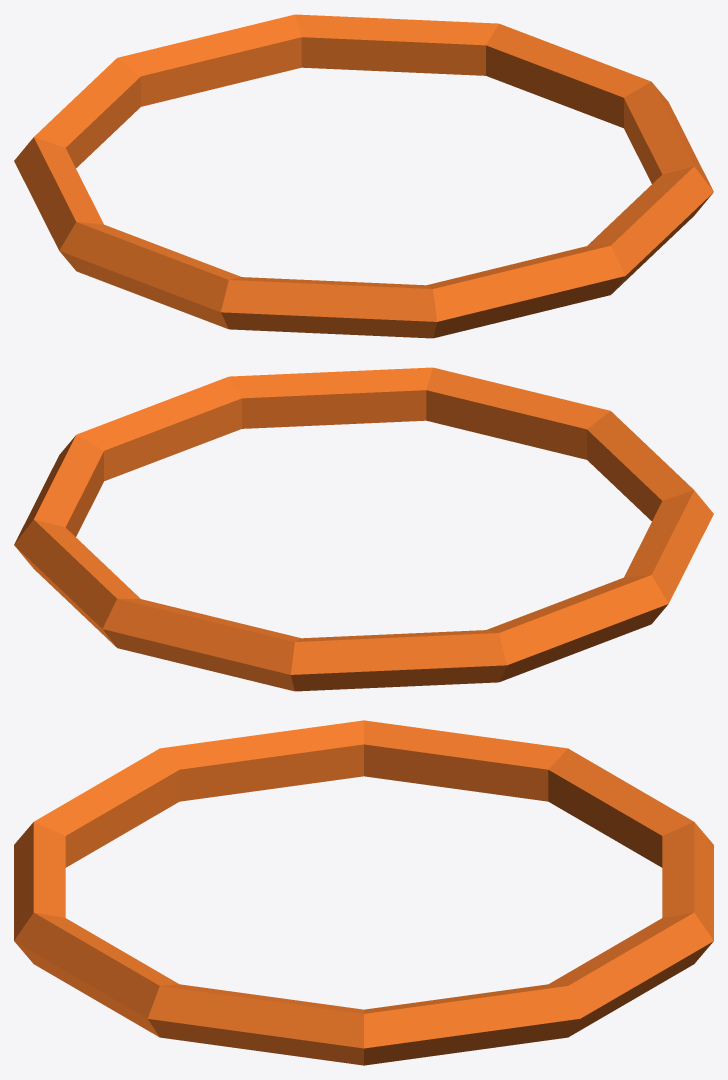
File: vfx_002.glb
3 renders of one model, top to bottom at view 1: azimuth 30°, elevation 25°; view 2: azimuth 150°, elevation 25°; view 3: azimuth 270°, elevation 25°, orthographic. The views are drawn at different scales.
Parts seen in each view (by area): view 1: vfx_ring.001; view 2: vfx_ring.001; view 3: vfx_ring.001.
Part boxes in pixels (bbox=[...]): vfx_ring.001: bbox=[14, 14, 713, 338]; vfx_ring.001: bbox=[14, 367, 713, 691]; vfx_ring.001: bbox=[14, 720, 713, 1065].
Size of the model in its own units: 1.35 by 0.1046 by 1.28.
